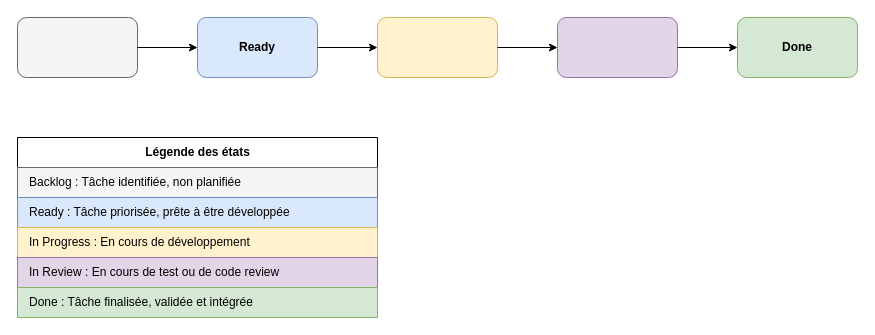
This 875x335 diagram has some shape labels left out. Each missing label, with the centre of its shape:
"Backlog" belongs at pixel 77 47.
"In Progress" belongs at pixel 437 47.
"In Review" belongs at pixel 617 47.
